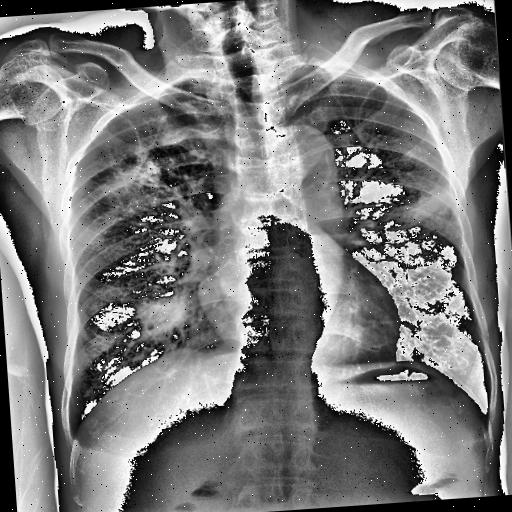0- Aortic enlargement: (263, 122, 337, 191), (265, 122, 338, 190), (268, 122, 340, 186)
10- Pleural effusion: (66, 430, 94, 458)
11- Pleural thickening: (66, 430, 94, 458)
13- Pulmonary fibrosis: (391, 186, 456, 230), (102, 152, 165, 190)
4- Consolidation: (388, 180, 459, 240), (130, 295, 195, 344), (132, 294, 189, 338)
6- Infiltration: (102, 148, 192, 234), (94, 152, 168, 218)
7- Lung Opacity: (102, 148, 192, 234), (382, 185, 460, 232), (130, 295, 195, 344), (391, 186, 456, 230), (102, 152, 165, 190), (136, 294, 186, 337)
8- Nodule-Mass: (136, 294, 186, 337)
